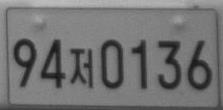0: (100, 38, 124, 89)
1: (128, 38, 154, 89)
3: (157, 39, 182, 89)
4: (40, 38, 66, 88)
6: (186, 39, 212, 90)
9: (12, 37, 37, 87)
저: (69, 47, 94, 88)
